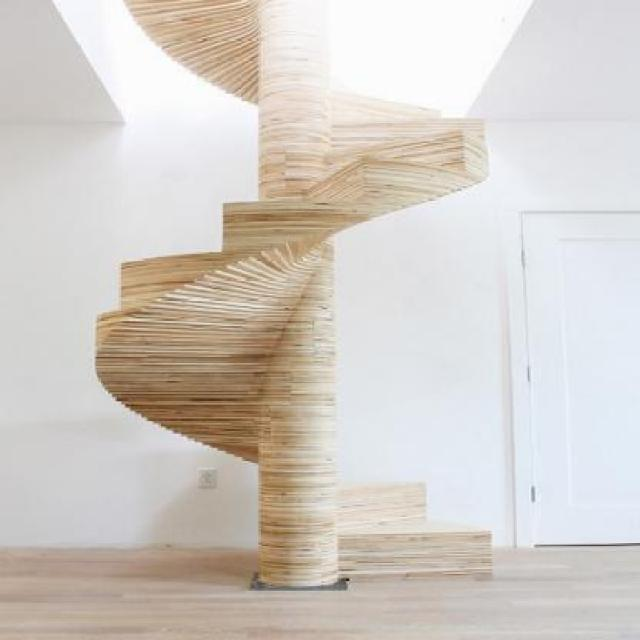stair: (97, 0, 548, 574)
